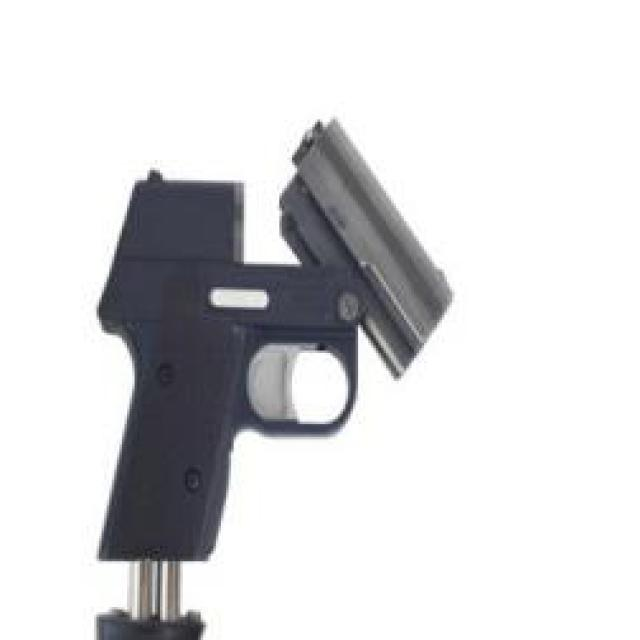pistol: (46, 119, 467, 640)
